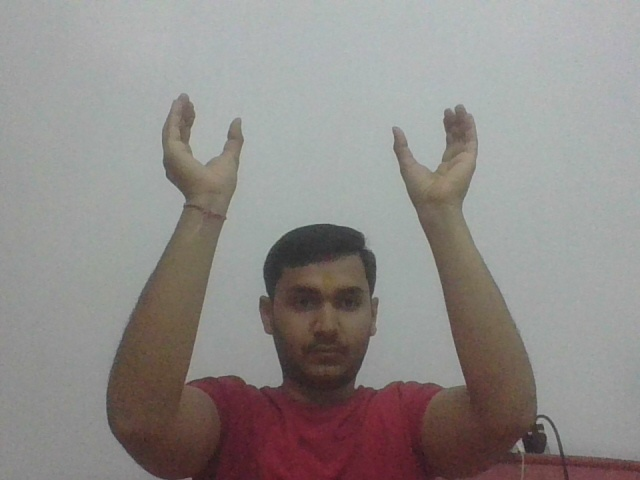U: (157, 88, 251, 209), (387, 98, 483, 215)
